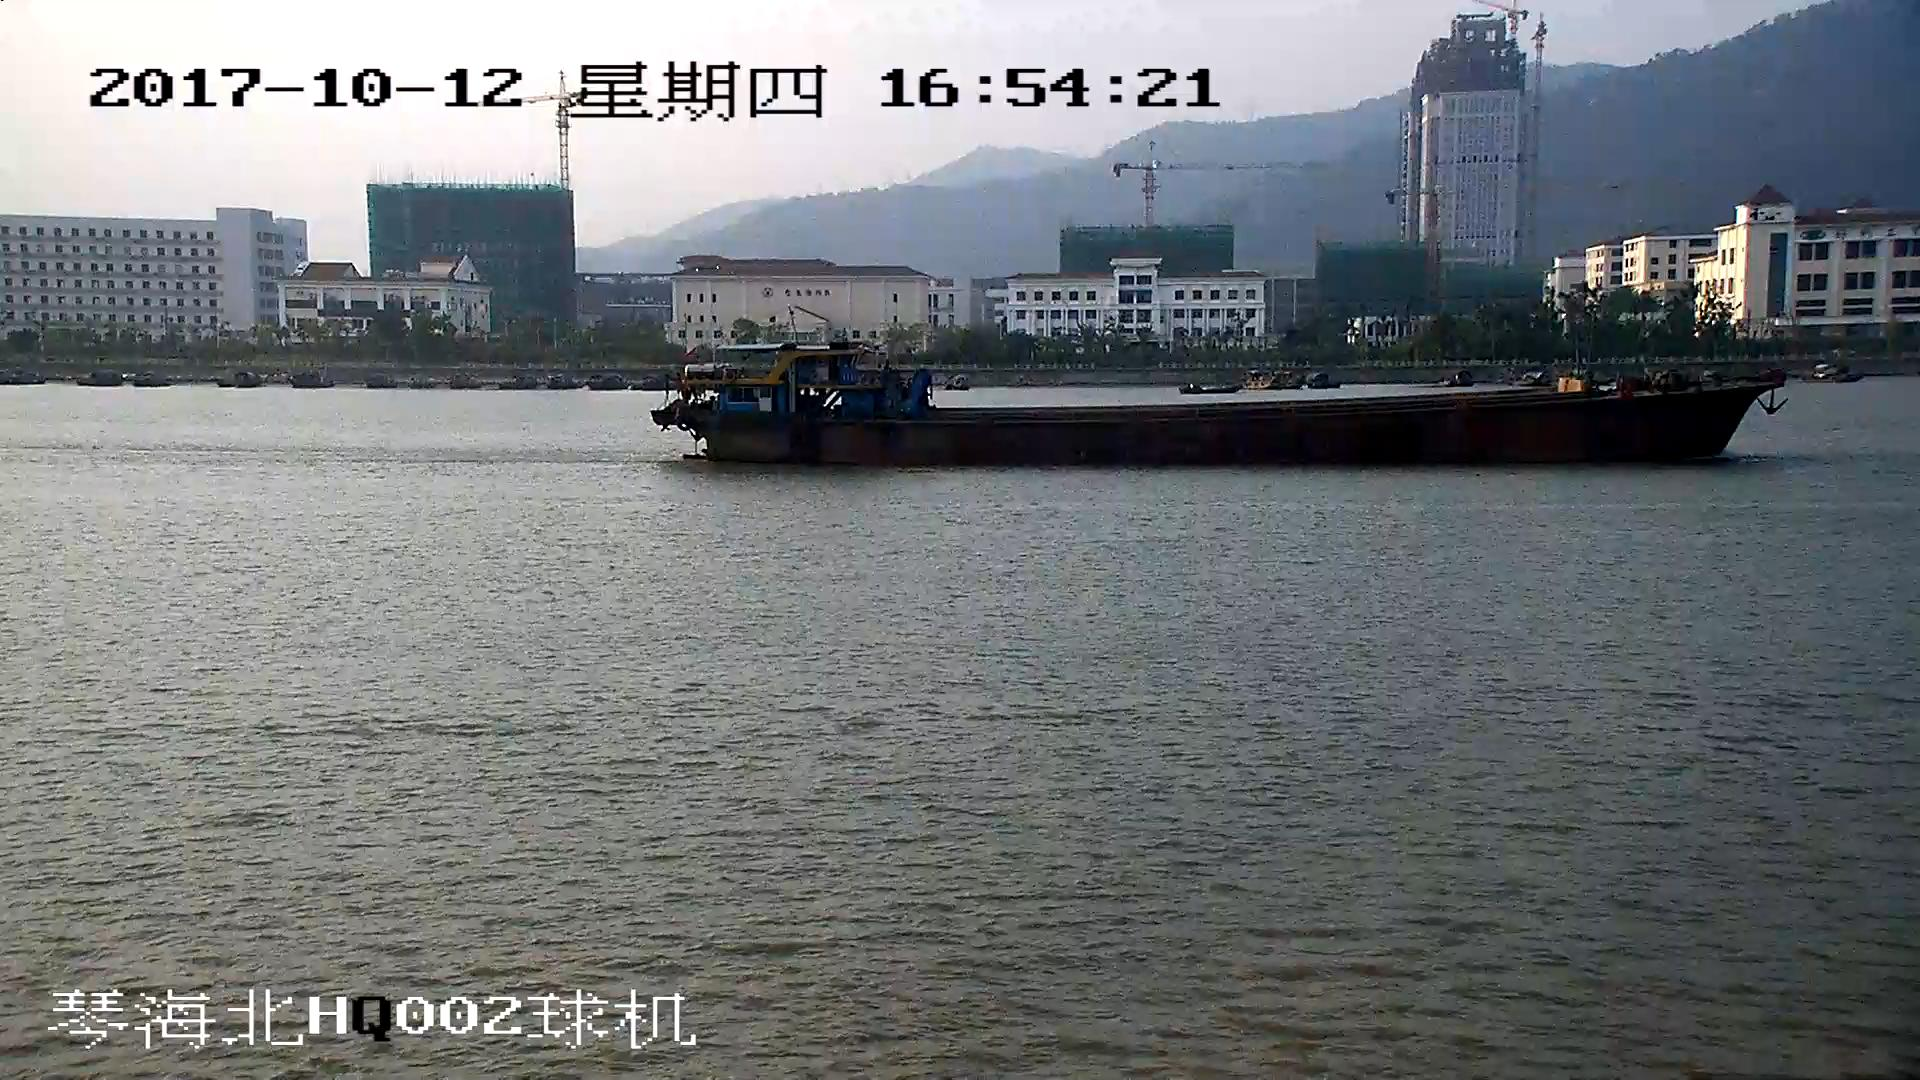bulk cargo carrier: (655, 339, 1778, 468)
